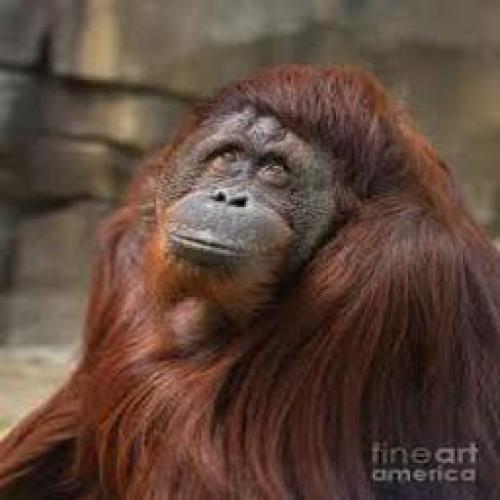orangutan-endangered: (96, 62, 471, 497)
